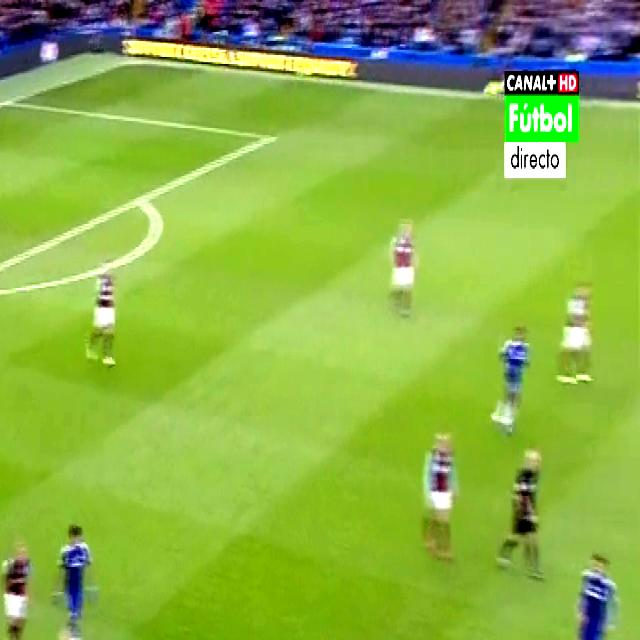soccer-player: (493, 441, 544, 581), (418, 416, 464, 567), (53, 503, 101, 640), (551, 263, 597, 396), (488, 313, 534, 441), (84, 244, 126, 383), (380, 199, 424, 327), (567, 538, 620, 640), (0, 522, 31, 640)
